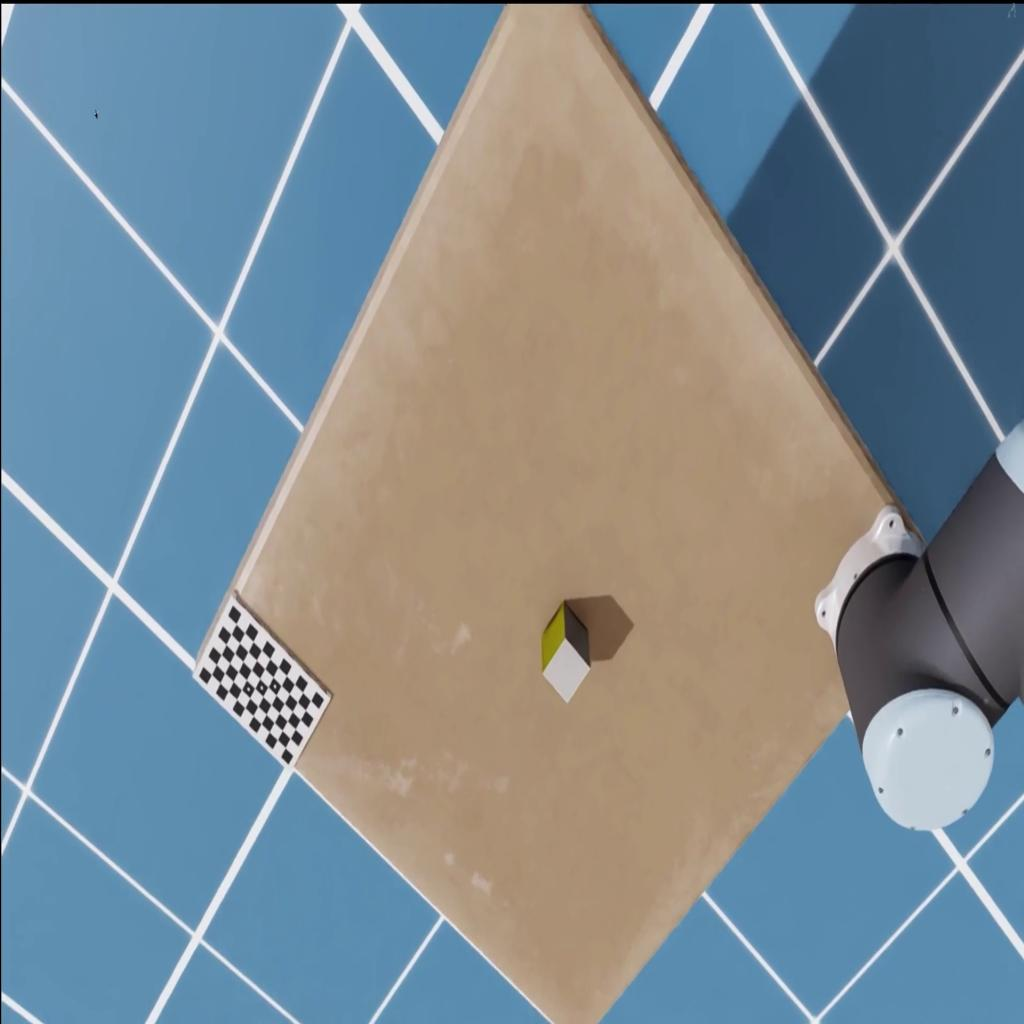Cube: (540, 600, 590, 704)
QR: (192, 588, 332, 770)
Robot: (814, 418, 1024, 834)
Table: (191, 4, 924, 1024)
